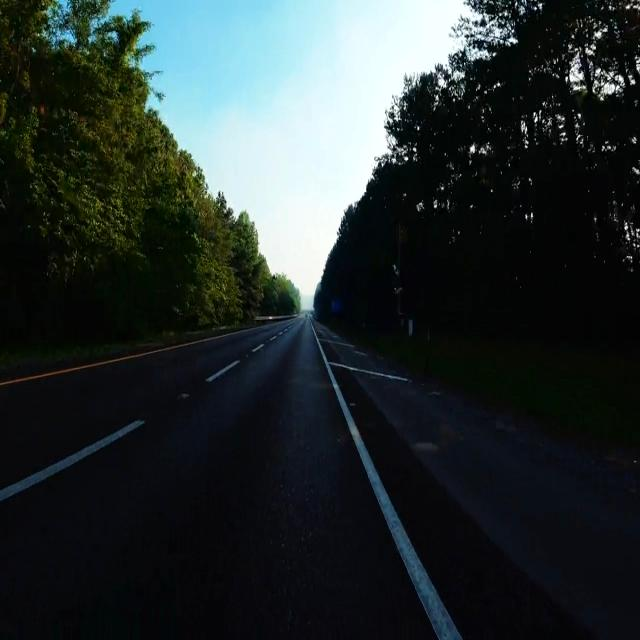road: (0, 318, 433, 637), (333, 368, 640, 636)
